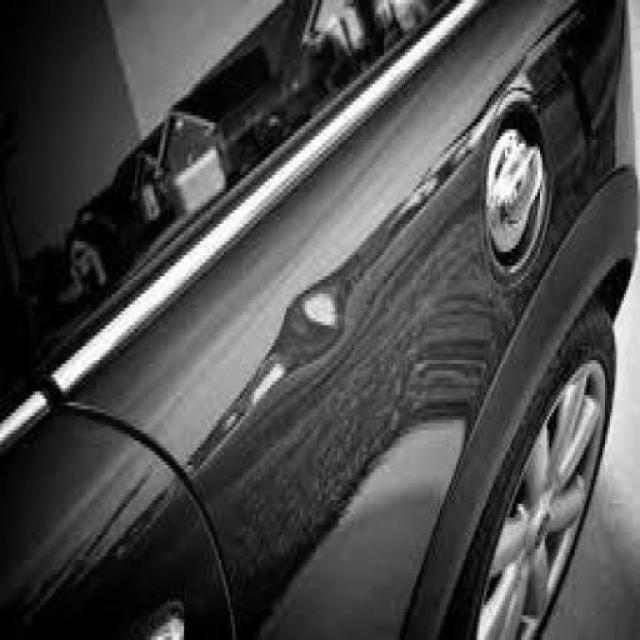dent: (235, 263, 358, 414)
